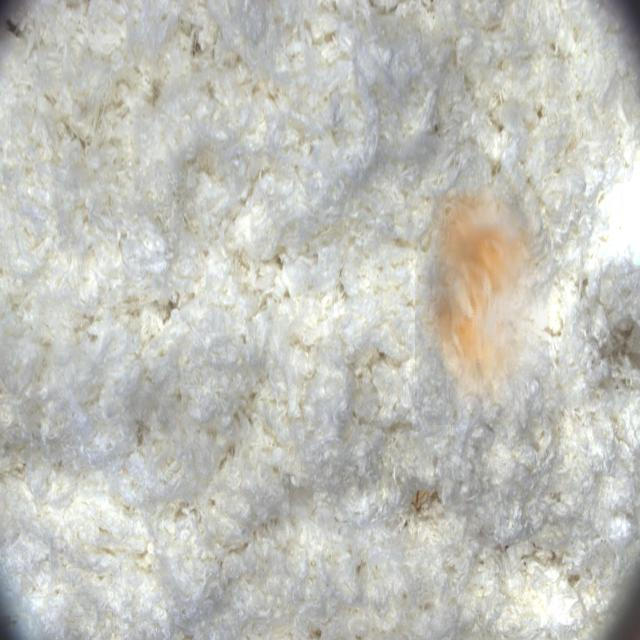dust: (415, 184, 549, 425)
